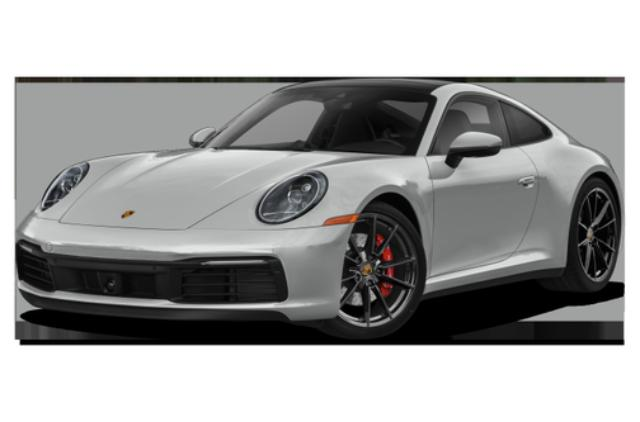porsche: (16, 76, 624, 340)
